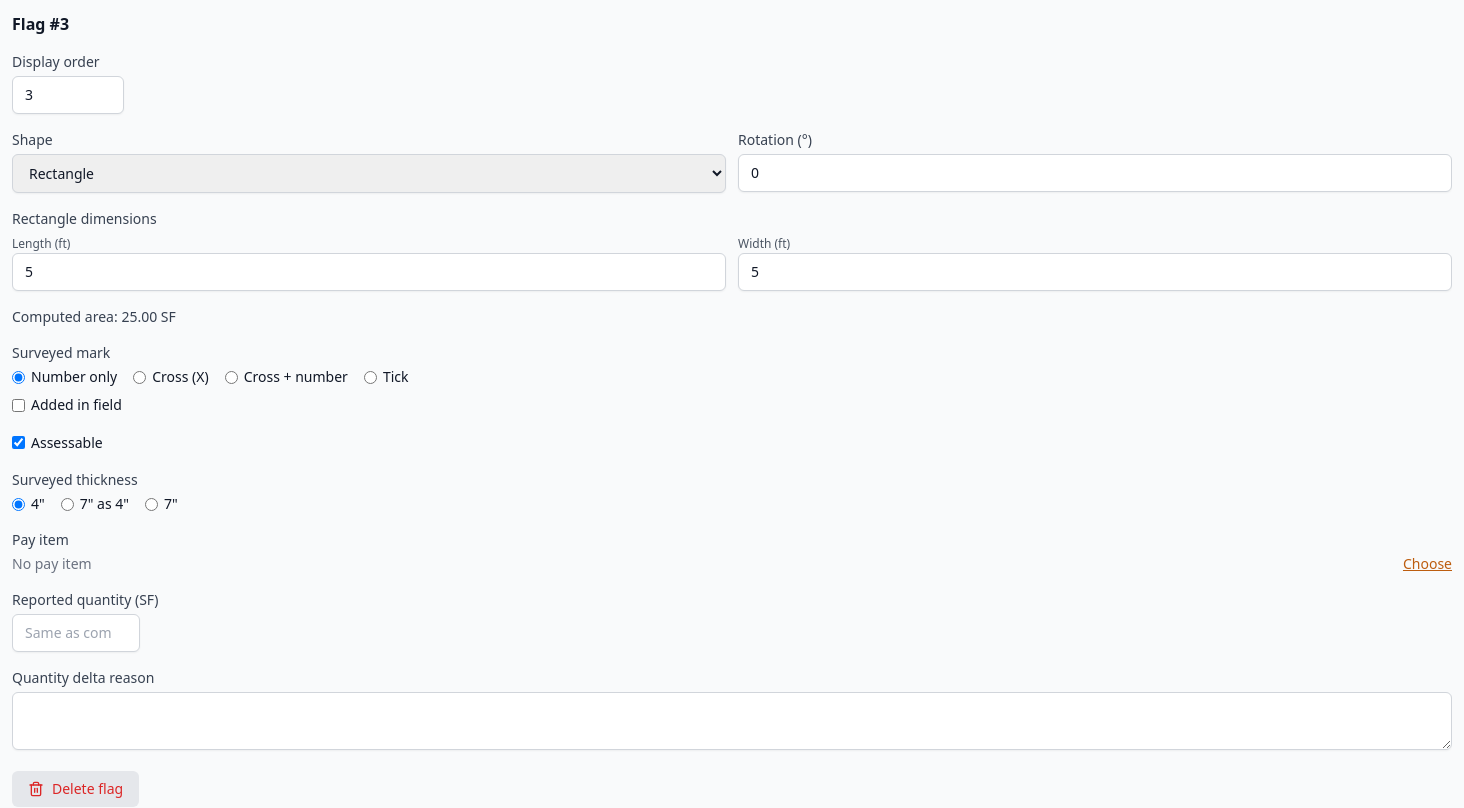
FlagPanel — editing › shows a refusal at the top
This screenshot has width=1464, height=808.
Click the radio button labelled "Tick" at (370, 377), box [364,370,377,384]
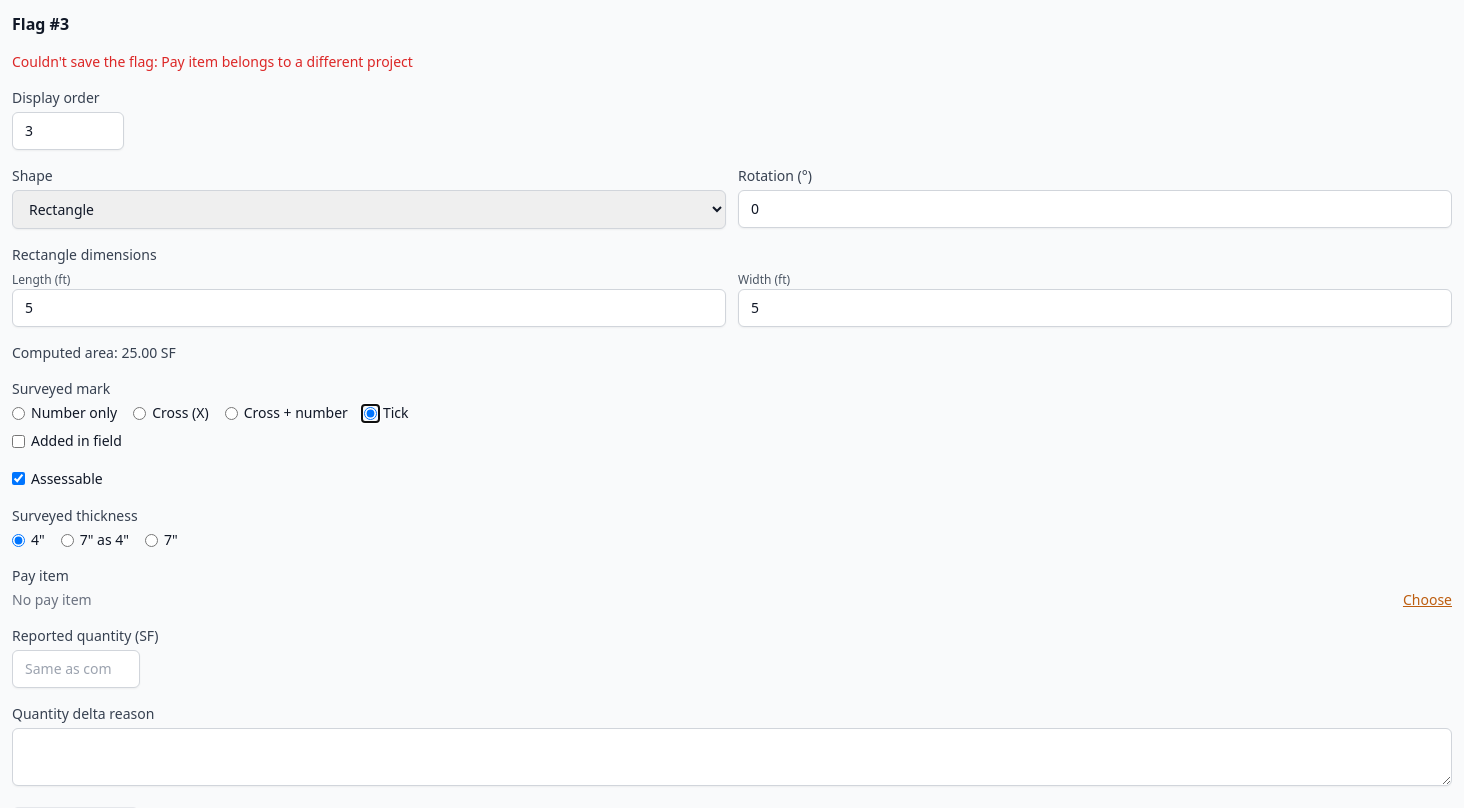
Expected: the text "Couldn't save the flag: Pay item belongs to a different project" is shown, [12,52,413,71]
